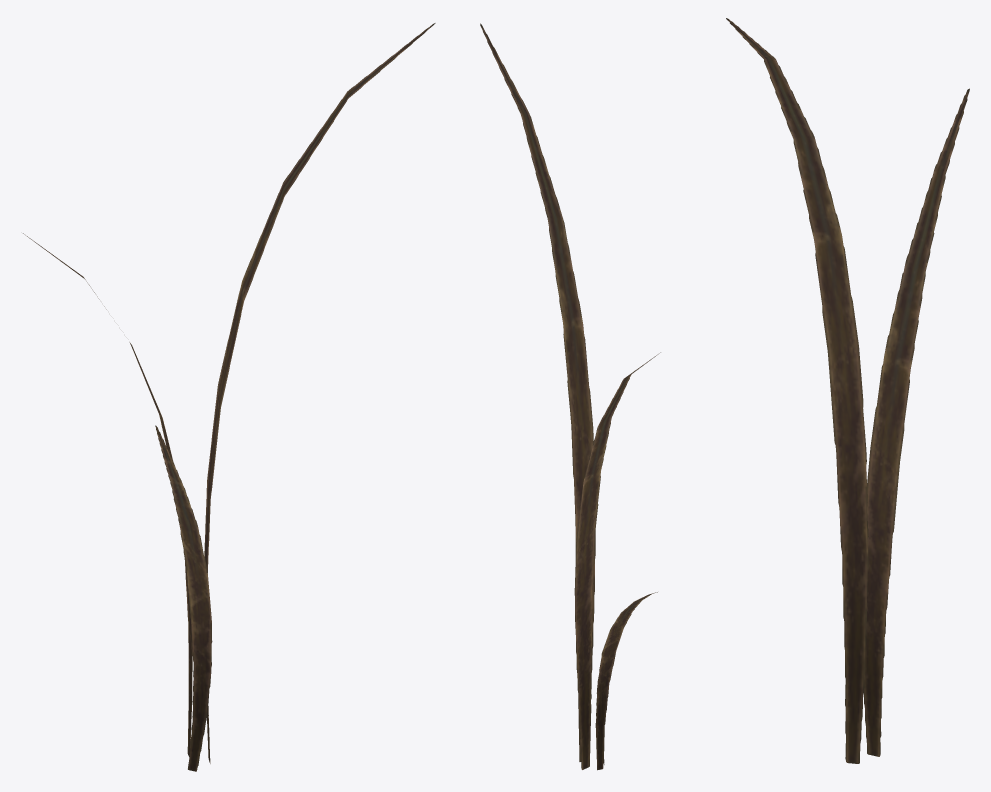
File: SM_grass_bunch_02.fbx
The picture shows the model from 3 angles, left to right: view 1: azimuth 30°, elevation 25°; view 2: azimuth 150°, elevation 25°; view 3: azimuth 270°, elevation 25°; orthographic projection. The views are drawn at different scales.
Parts seen in each view (by area): view 1: SM_grass_bunch_02; view 2: SM_grass_bunch_02; view 3: SM_grass_bunch_02.
Part boxes in pixels (x1=…): SM_grass_bunch_02: x1=23, y1=23, x2=435, y2=771; SM_grass_bunch_02: x1=480, y1=23, x2=660, y2=770; SM_grass_bunch_02: x1=726, y1=18, x2=969, y2=763.
Size of the model in its own units: 20.61 by 12.66 by 46.37.
